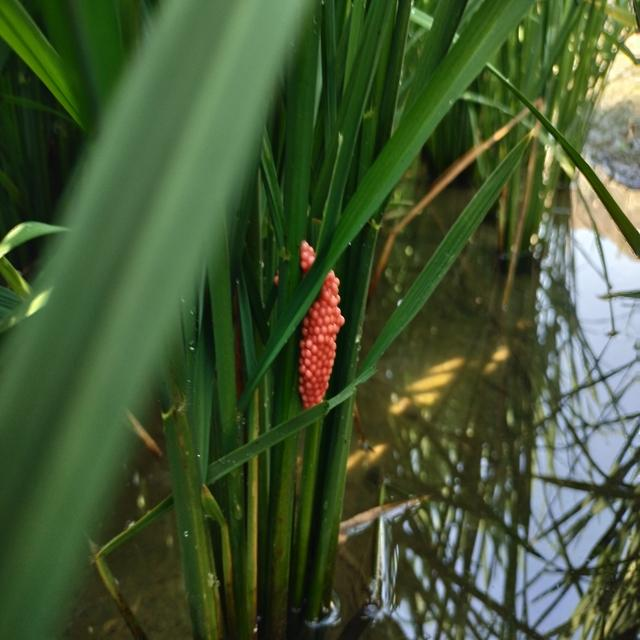Leaf blast: (270, 229, 361, 417)
